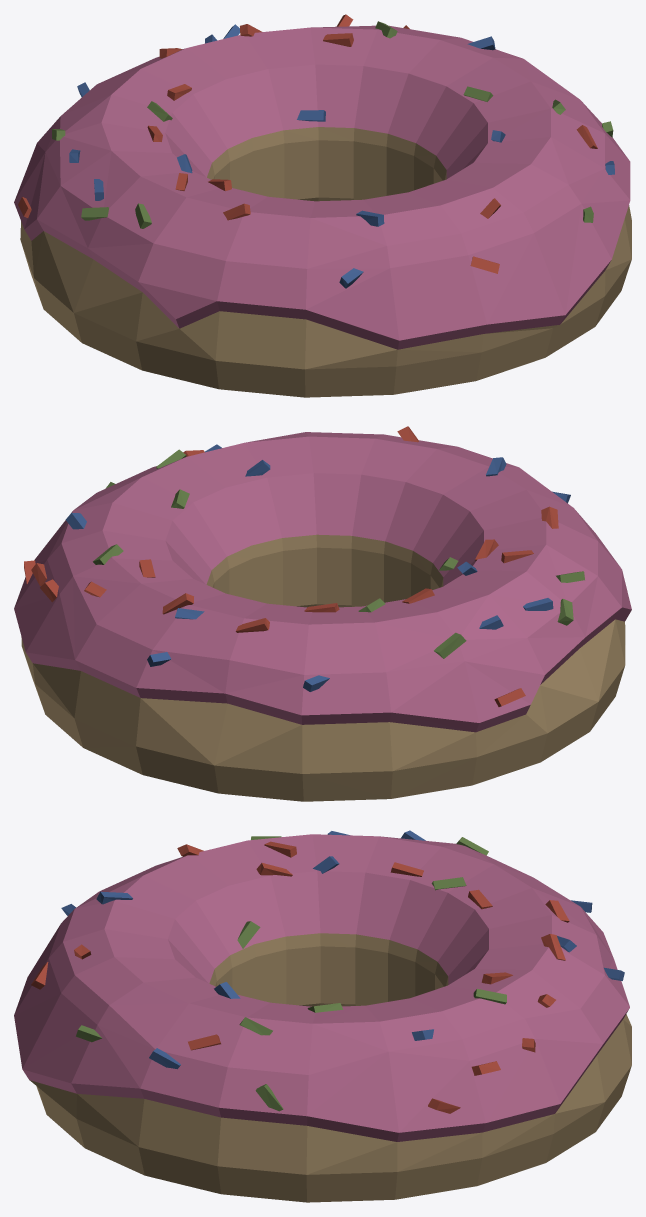
The model's file is donut1.glb.
3 views of the same model, one above another, from view 1: azimuth 30°, elevation 25°; view 2: azimuth 150°, elevation 25°; view 3: azimuth 270°, elevation 25° (orthographic).
Visible parts, largest first — view 1: Donut1; view 2: Donut1; view 3: Donut1.
Boxes of the visible parts, x1,y1,x2,y2 form: Donut1: (14, 14, 631, 397); Donut1: (14, 426, 631, 801); Donut1: (14, 830, 631, 1202).
Bounding box in the file's own units: 0.8591 × 0.2914 × 0.8698.
Materials: 1 (1 with a texture image).
